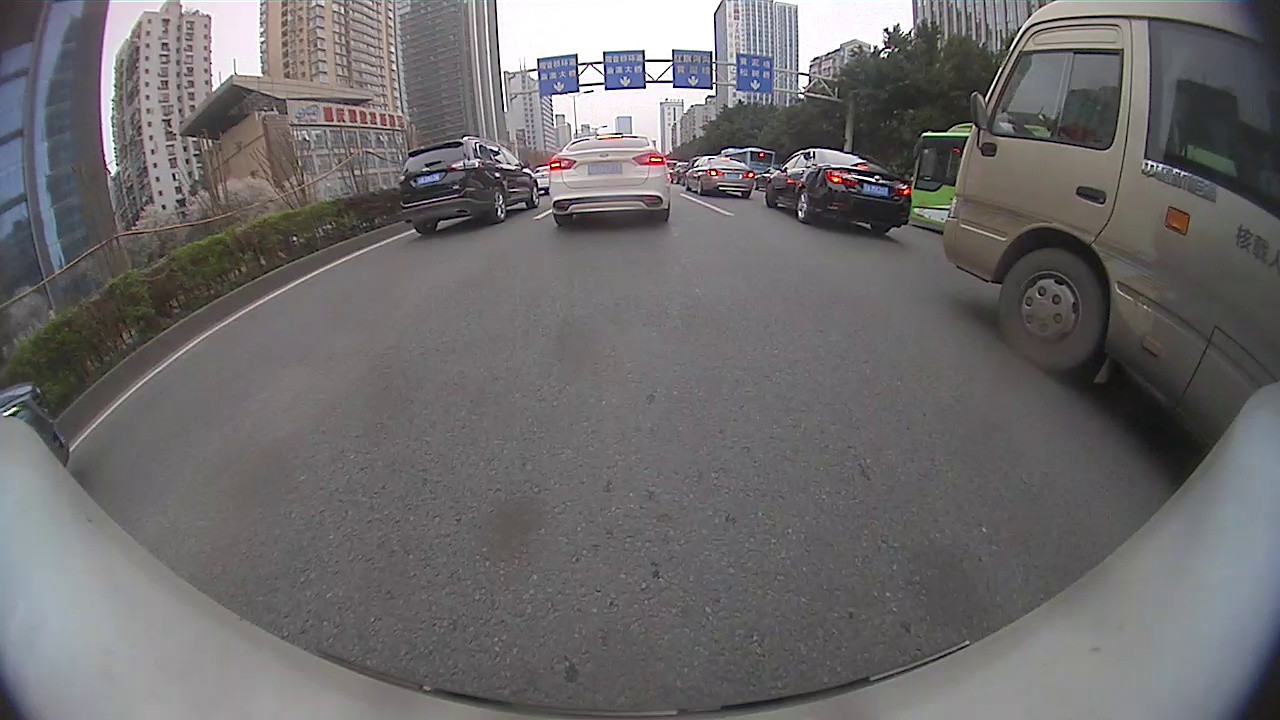bus: (943, 0, 1279, 451), (908, 118, 974, 232)
car: (398, 134, 540, 233), (765, 145, 910, 234), (551, 134, 674, 224), (686, 159, 756, 201), (542, 166, 551, 191)
front: (996, 247, 1110, 374), (530, 184, 541, 210)
rear: (795, 190, 813, 222), (493, 189, 506, 220)
